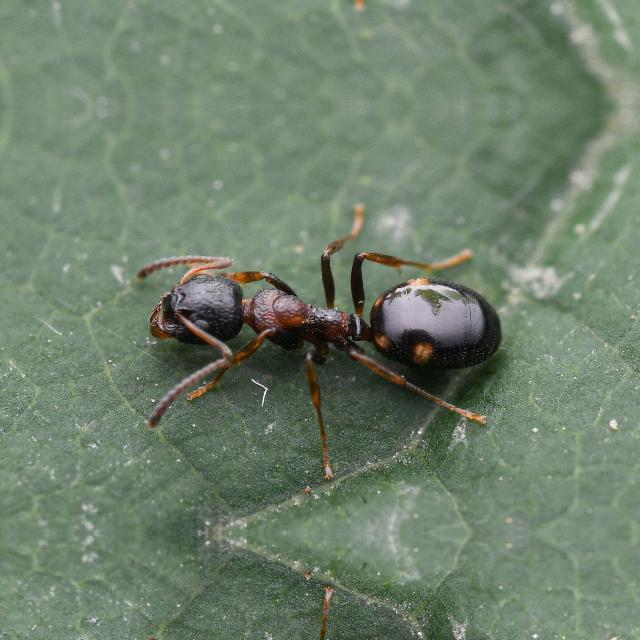Dolichoderus: (116, 228, 538, 417)
